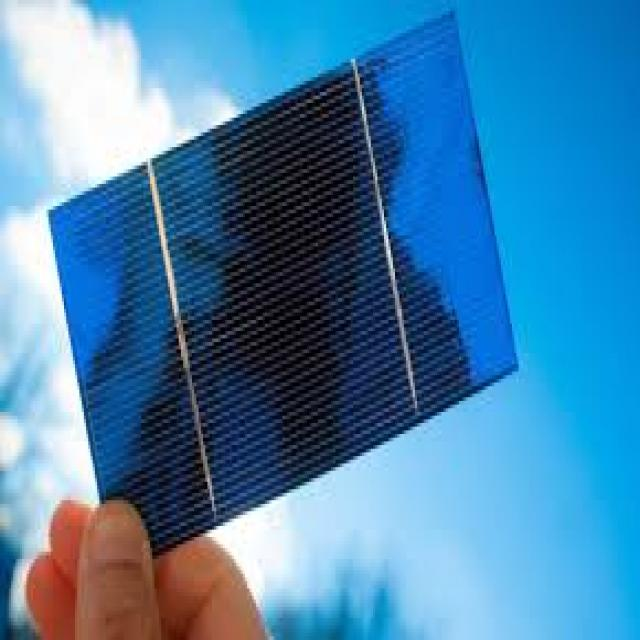no faulty: (47, 13, 518, 566)
